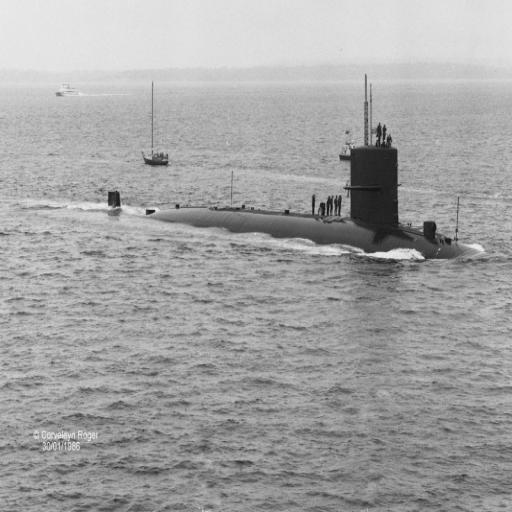submarine: (107, 81, 482, 260)
